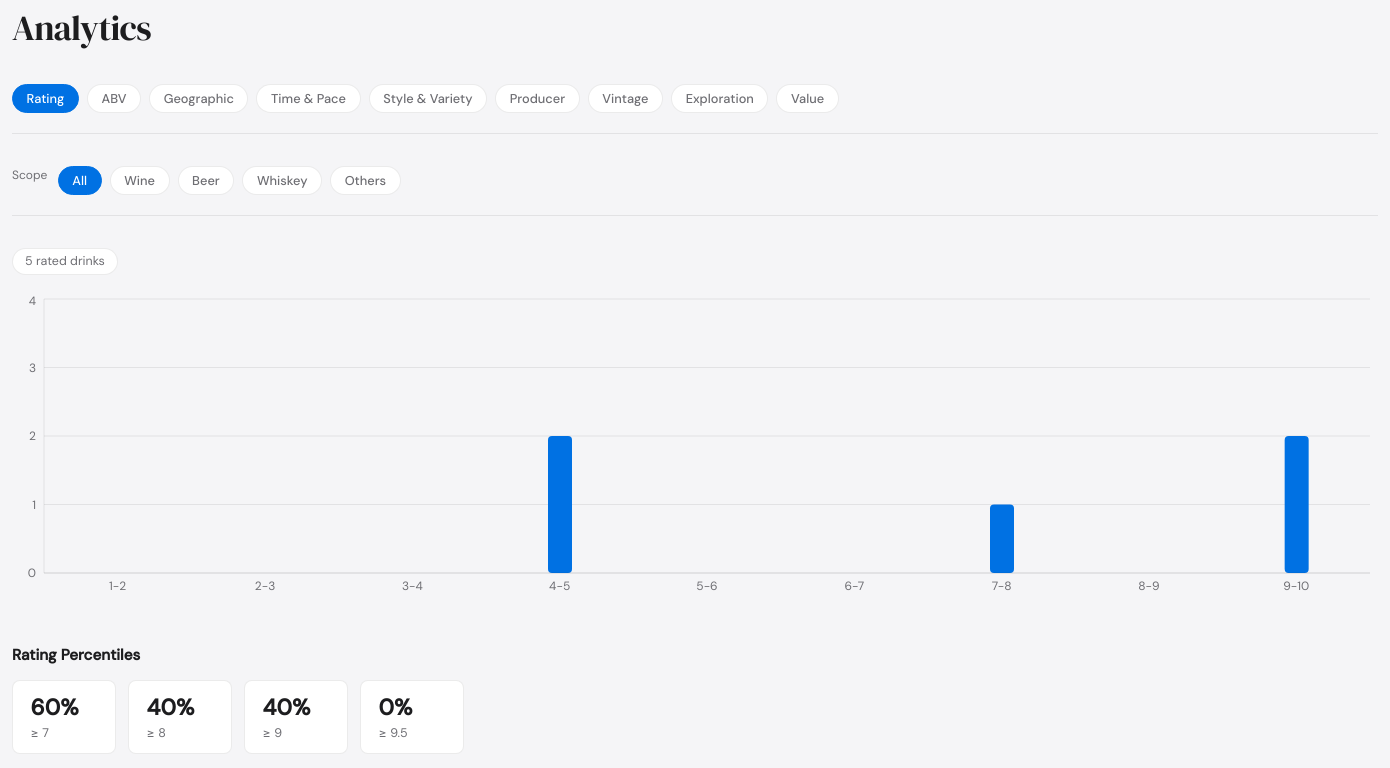
Test: clicking the Time & Pace tab renders TimePaceSection
Check: the text "5 rated drinks" is shown, box [12, 248, 118, 276]
Click the button "Time & Pace" at x=309, y=99, box [256, 84, 361, 113]
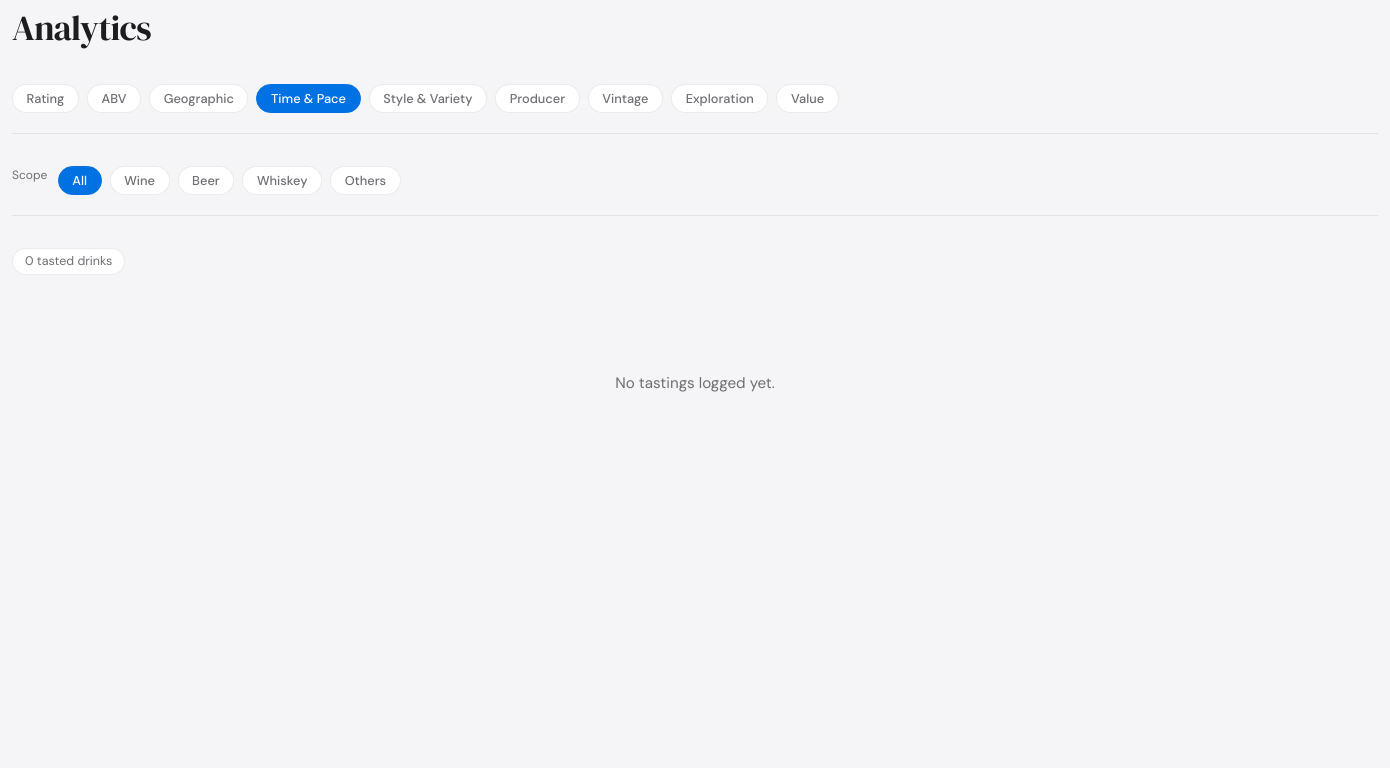
Check: the text "tasted drinks?" is shown, box [12, 248, 125, 276]
